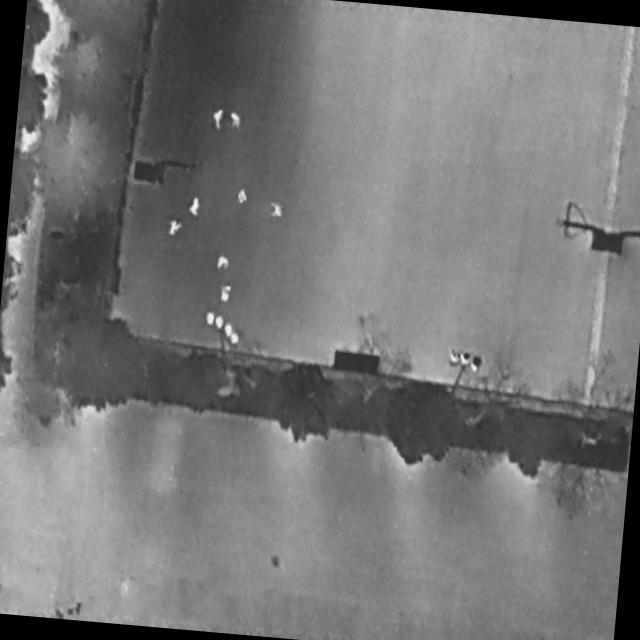person: (185, 193, 205, 219), (211, 107, 225, 132), (168, 219, 184, 239), (269, 201, 285, 220), (215, 254, 231, 273), (229, 111, 243, 131), (236, 187, 250, 207), (219, 285, 233, 305)
